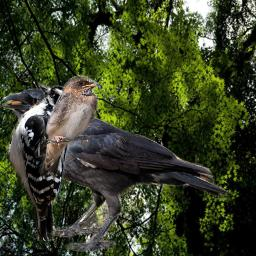Crow: (2, 87, 228, 252)
Swallow: (34, 75, 99, 178)
Woodpecker: (6, 81, 81, 241)
